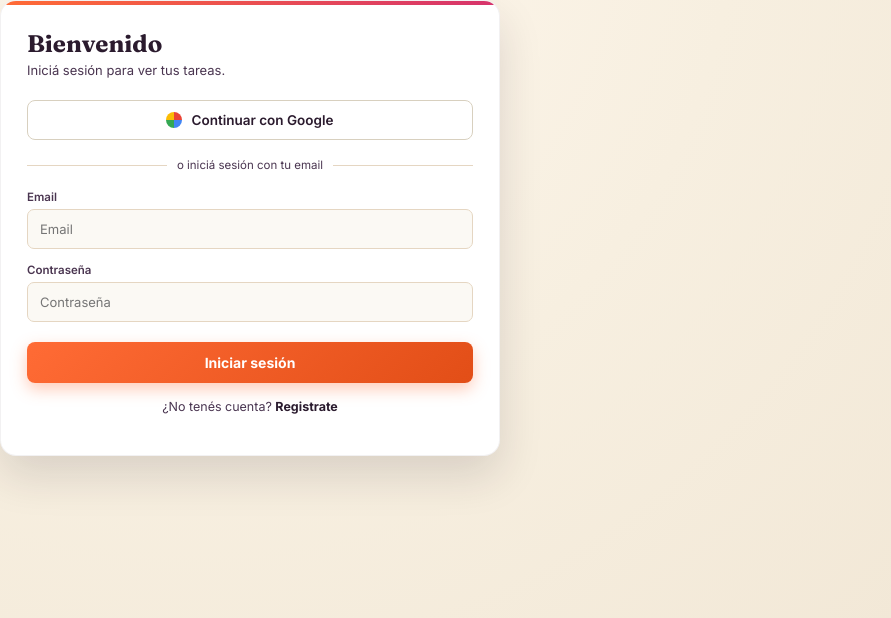
Test: LoginForm › muestra el mensaje de error cuando login rechaza (caso borde)
Type "user@mail.com" into the field with placeholder "Email" at point(250, 229), box x1=27 y1=209 x2=473 y2=249
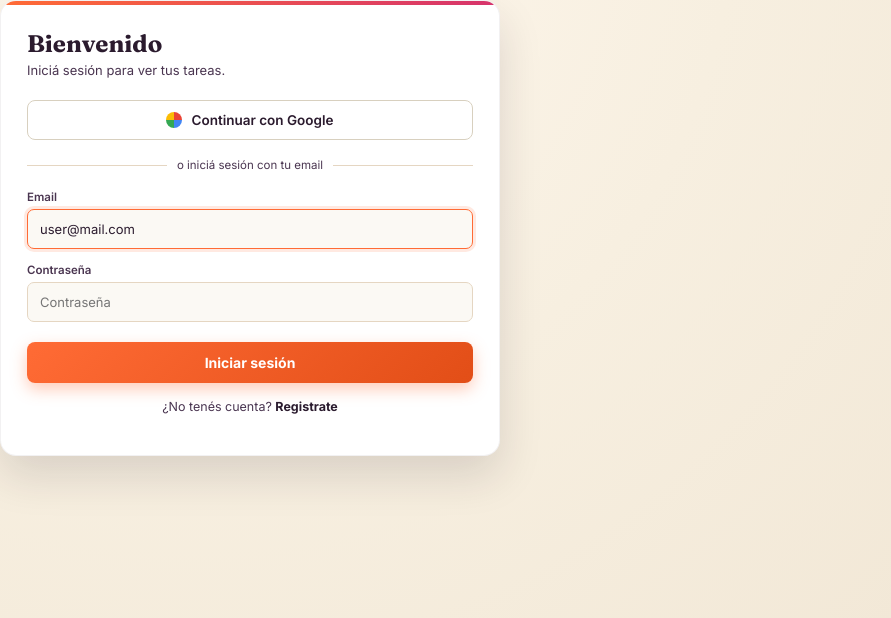
Type "malaClave" into the password field with placeholder "Contraseña" at point(250, 302), box x1=27 y1=282 x2=473 y2=322
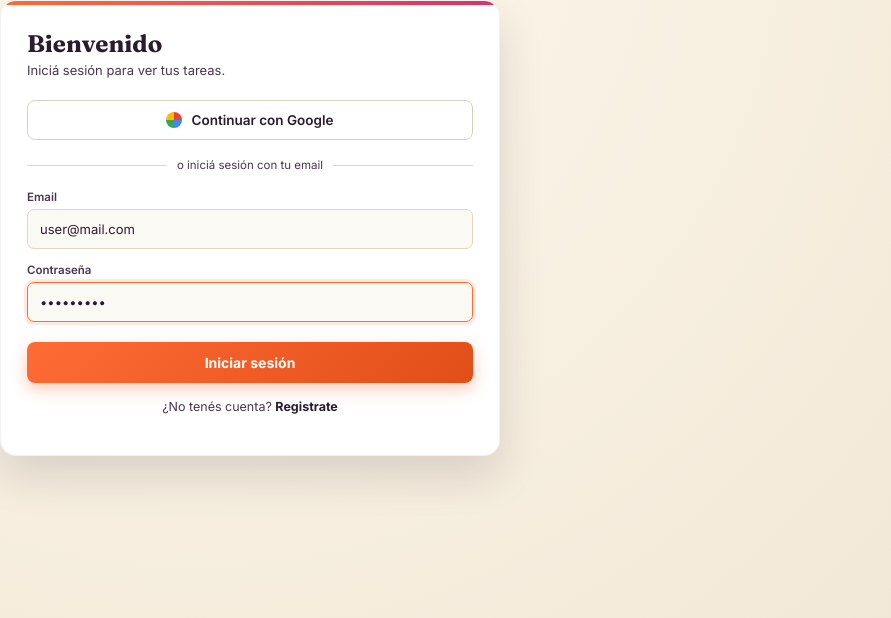
Click the button "Iniciar sesión" at point(250, 362), box x1=27 y1=342 x2=473 y2=383
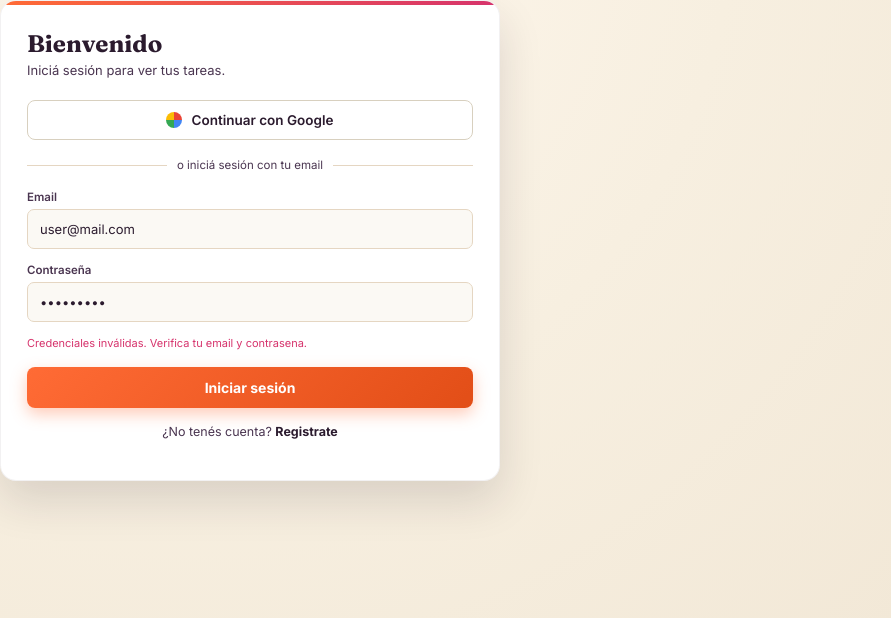
Result: the text "Credenciales inválidas. Verifica tu email y contrasena." is shown at x1=27 y1=336 x2=307 y2=350
